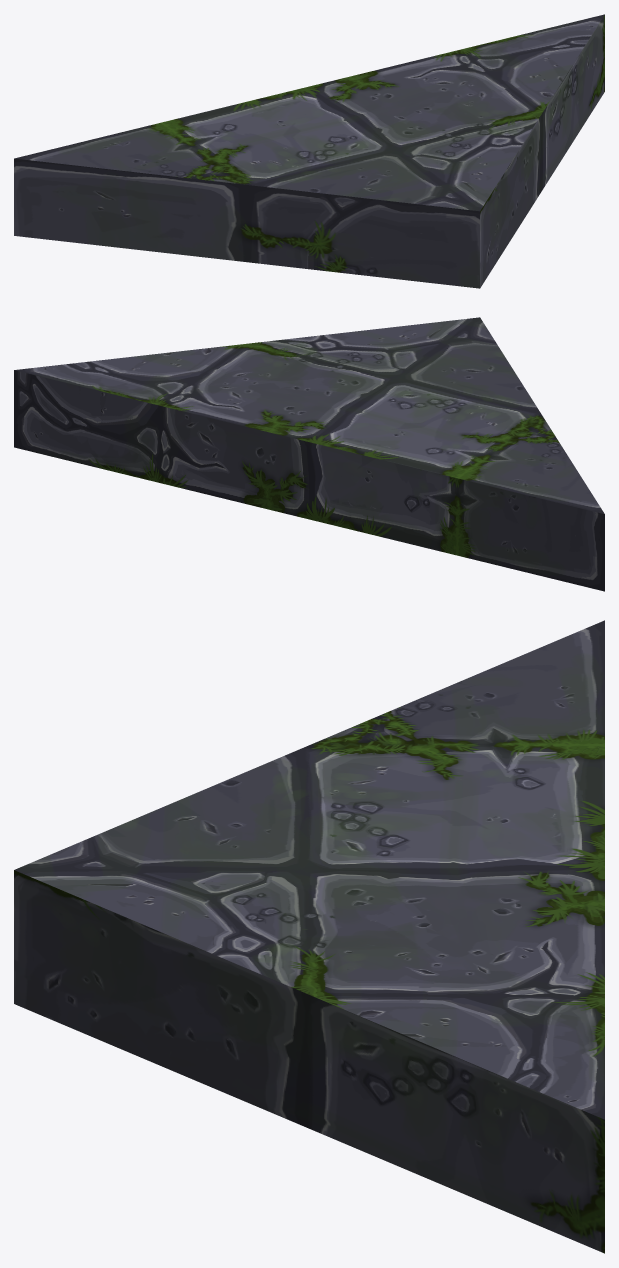
Rendered from MOD_Floor_01_E_angle_med_2_half.fbx.
3 views of the same model, one above another, from view 1: azimuth 30°, elevation 25°; view 2: azimuth 150°, elevation 25°; view 3: azimuth 270°, elevation 25° (orthographic). The views are drawn at different scales.
Visible parts, largest first — view 1: MOD_Floor_01_E_angle_med_2_half; view 2: MOD_Floor_01_E_angle_med_2_half; view 3: MOD_Floor_01_E_angle_med_2_half.
Boxes of the visible parts, x1=… form: MOD_Floor_01_E_angle_med_2_half: x1=14, y1=14, x2=604, y2=288; MOD_Floor_01_E_angle_med_2_half: x1=14, y1=317, x2=604, y2=591; MOD_Floor_01_E_angle_med_2_half: x1=14, y1=620, x2=604, y2=1253.
Bounding box in the file's own units: 400 × 50 × 200.
